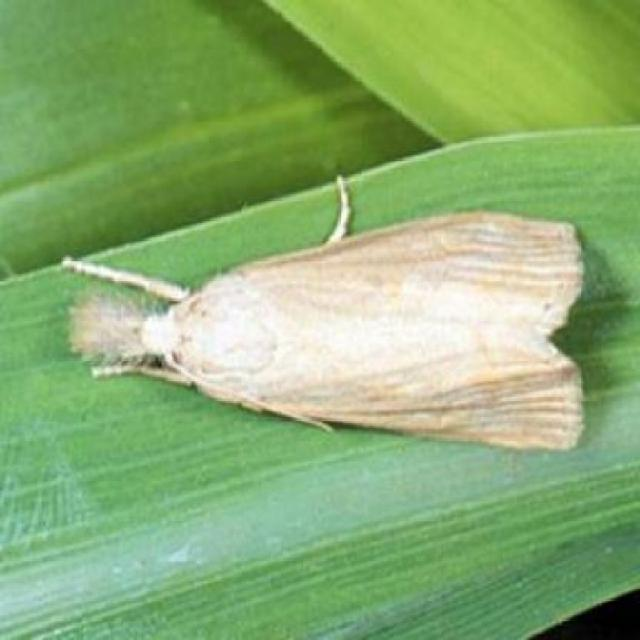stem-borer: (56, 168, 590, 457)
